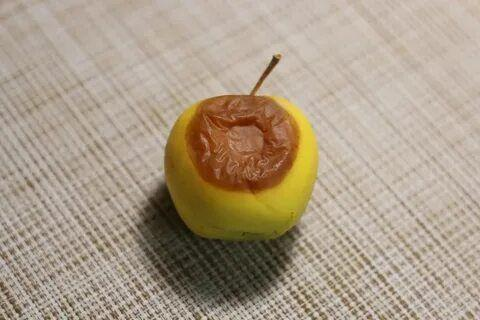Apple: (164, 94, 318, 242)
